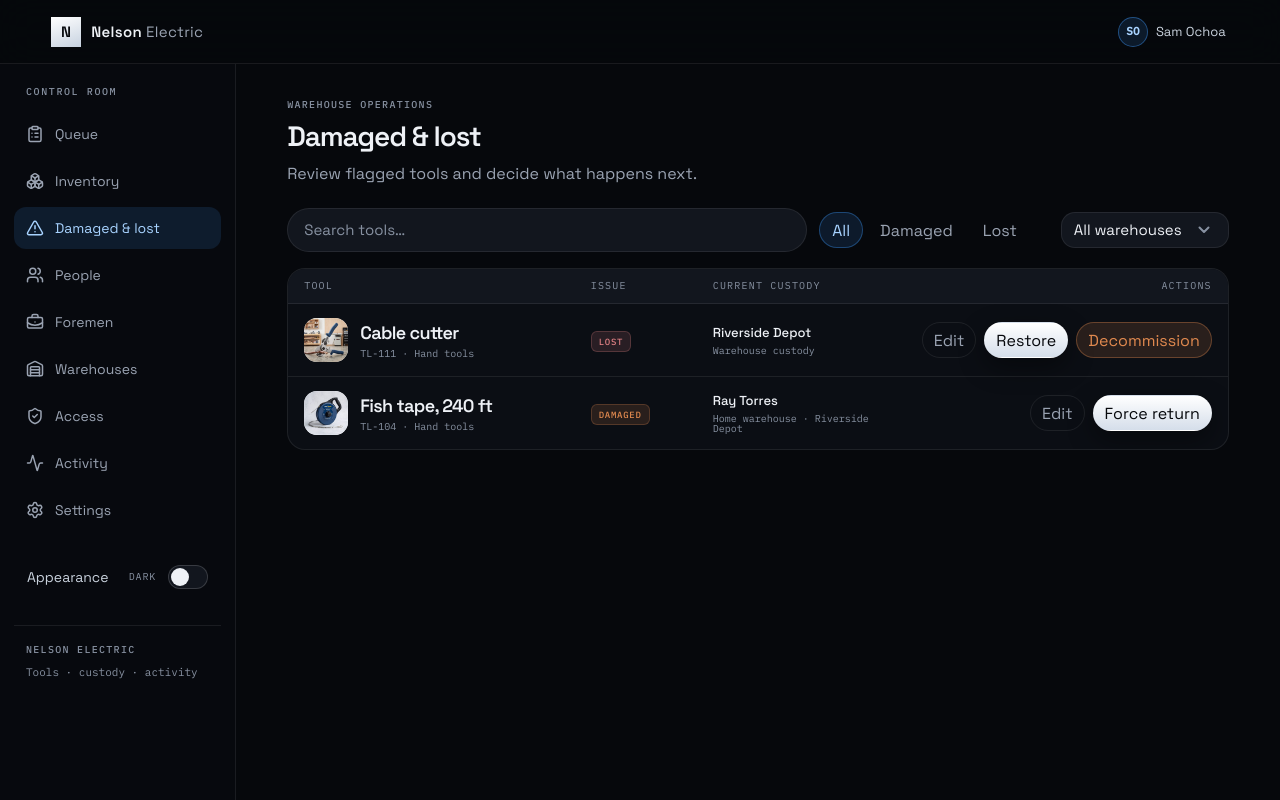
Test: flagged tool decision actions › saves an edit through the canonical definition authority
Expected: the heading "Damaged & lost" is shown, [287,118,481,154]
Expected: the text "Fish tape, 240 ft" is shown, [360,394,492,417]
Click the button "Edit" in the row of "Home warehouse · Riverside Depot" at (1057, 413), box [1030,395,1085,431]
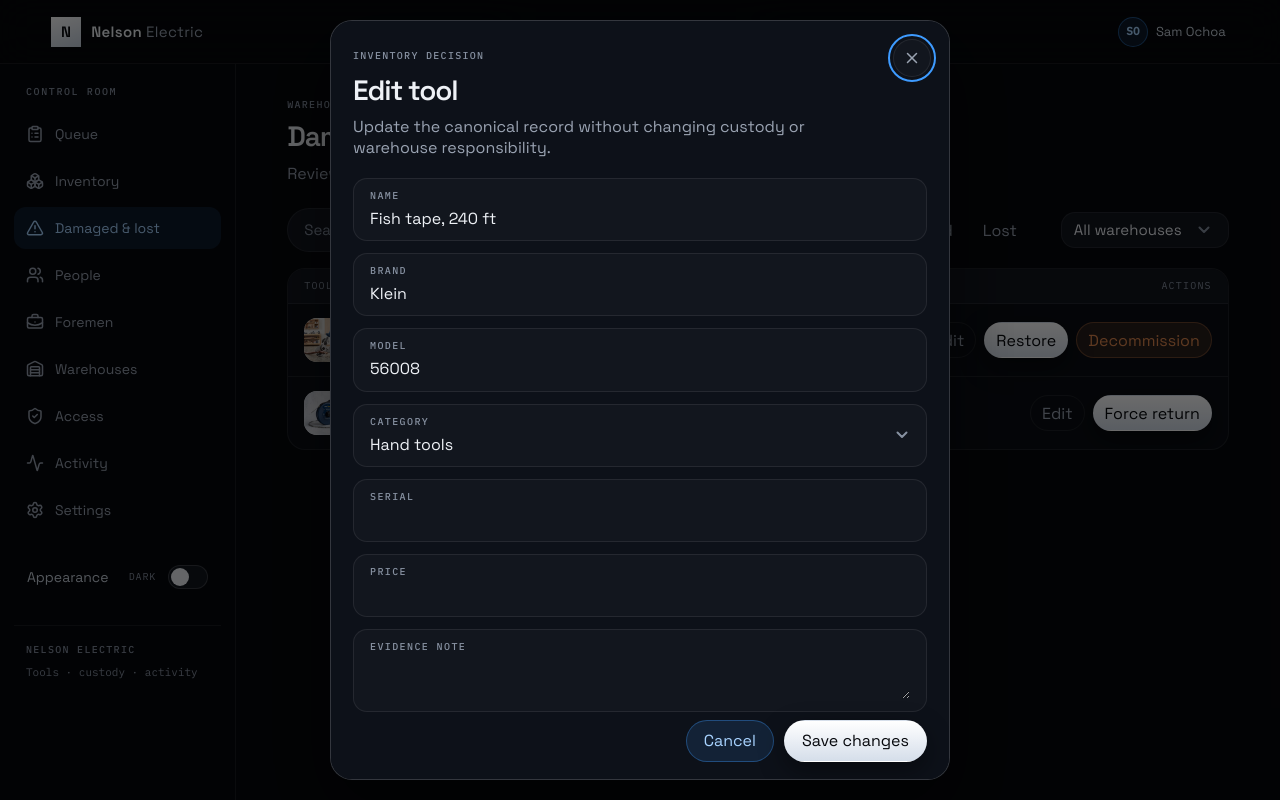
Replace the text in the field labelled "Name" with "Fish tape — serviced" at (640, 219), box [370,209,910,228]
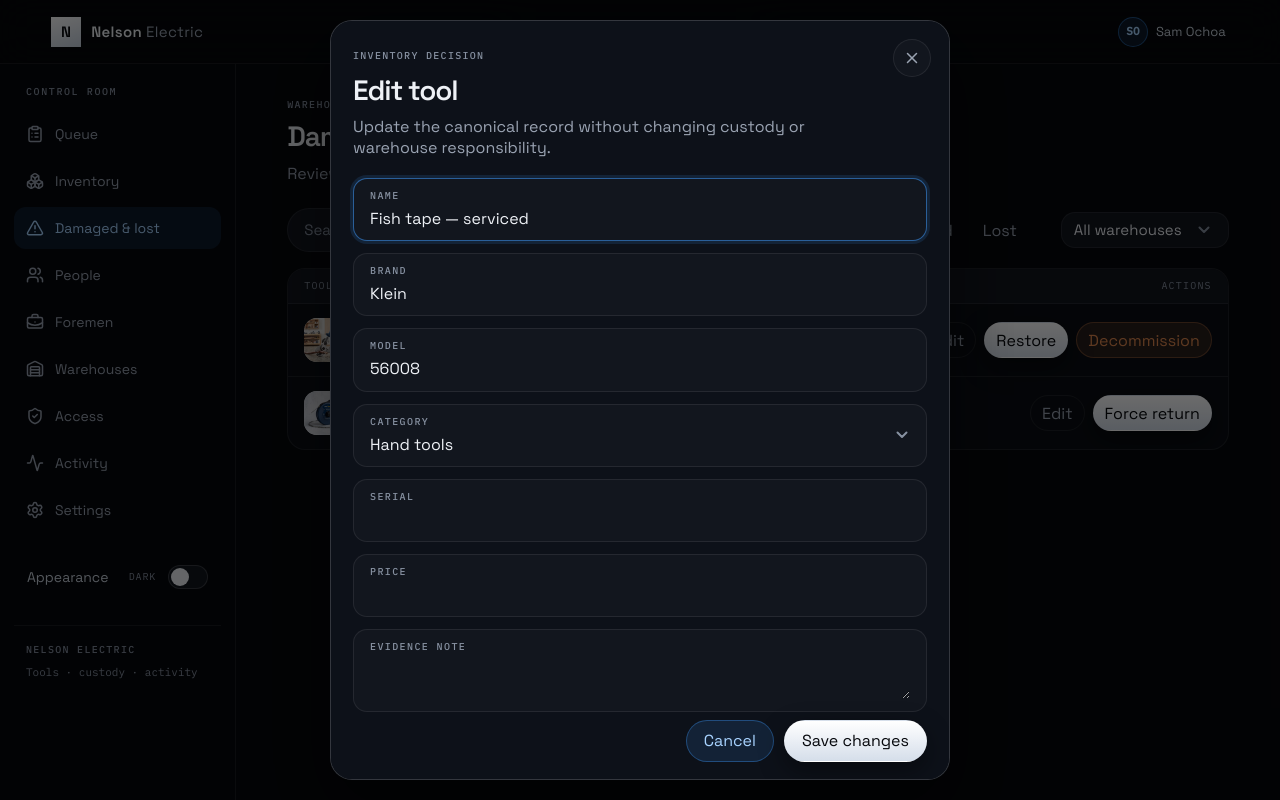
Click the button "Save changes" at (856, 740), box [784,720,927,762]
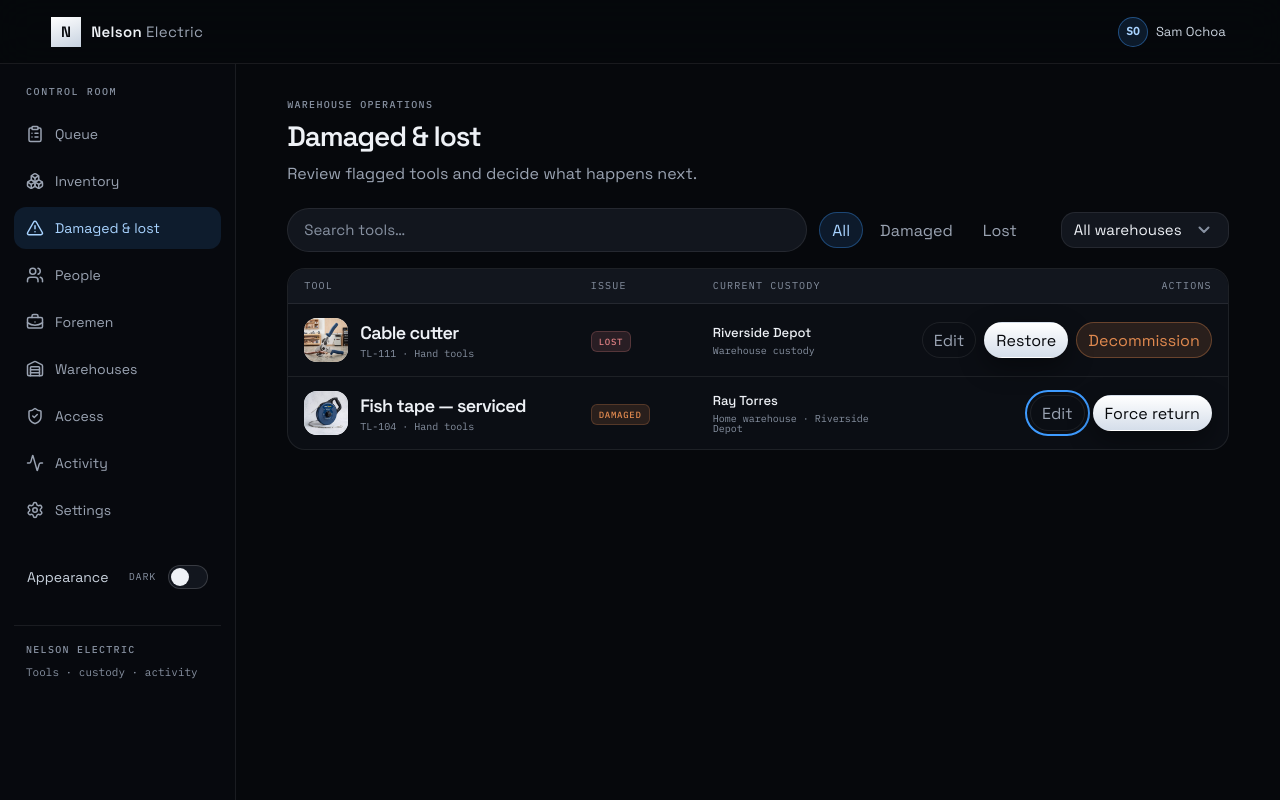
Expected: the heading "Fish tape, 240 ft" reads "Fish tape — serviced", [360,394,526,417]
